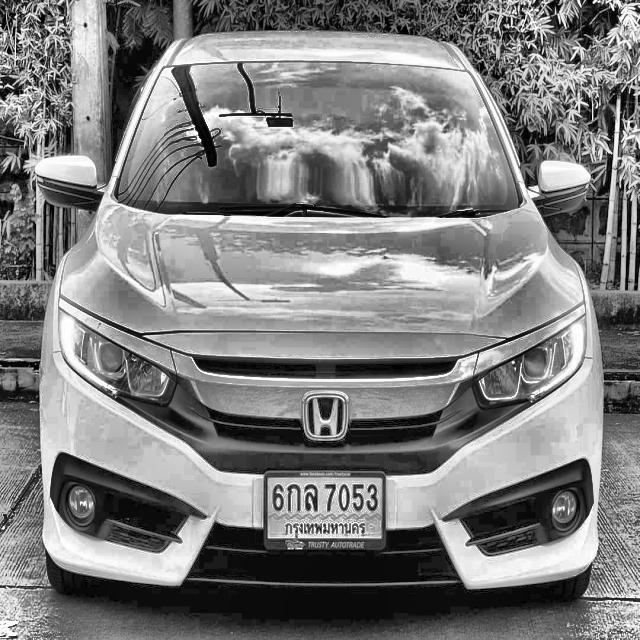license-plate: (262, 468, 388, 555)
